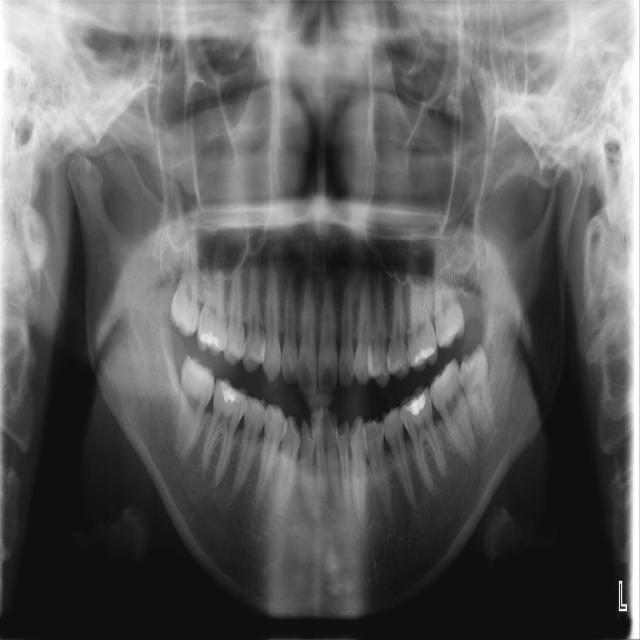Filling: (221, 384, 246, 408), (196, 332, 224, 353), (409, 346, 434, 366), (405, 391, 426, 414)
impacted tooth: (462, 343, 495, 433)
